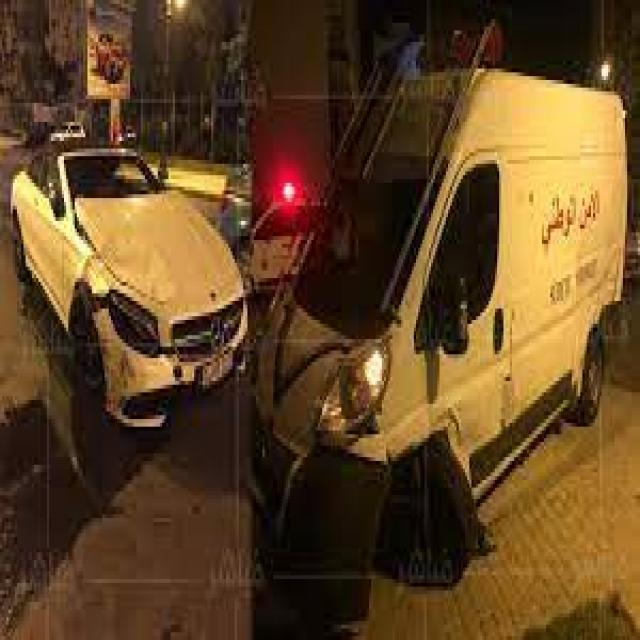police: (258, 35, 628, 531)
